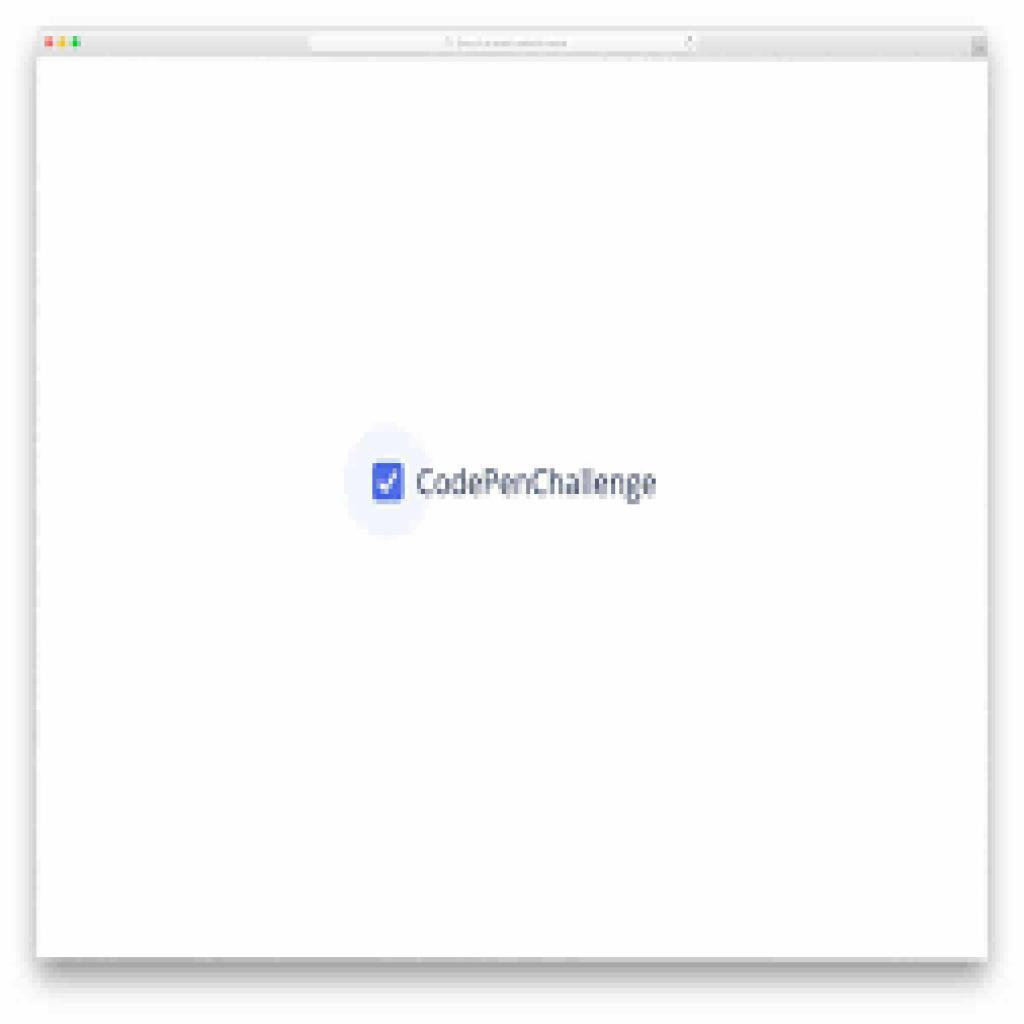checkbox: (372, 463, 406, 503)
label: (417, 465, 664, 508)
